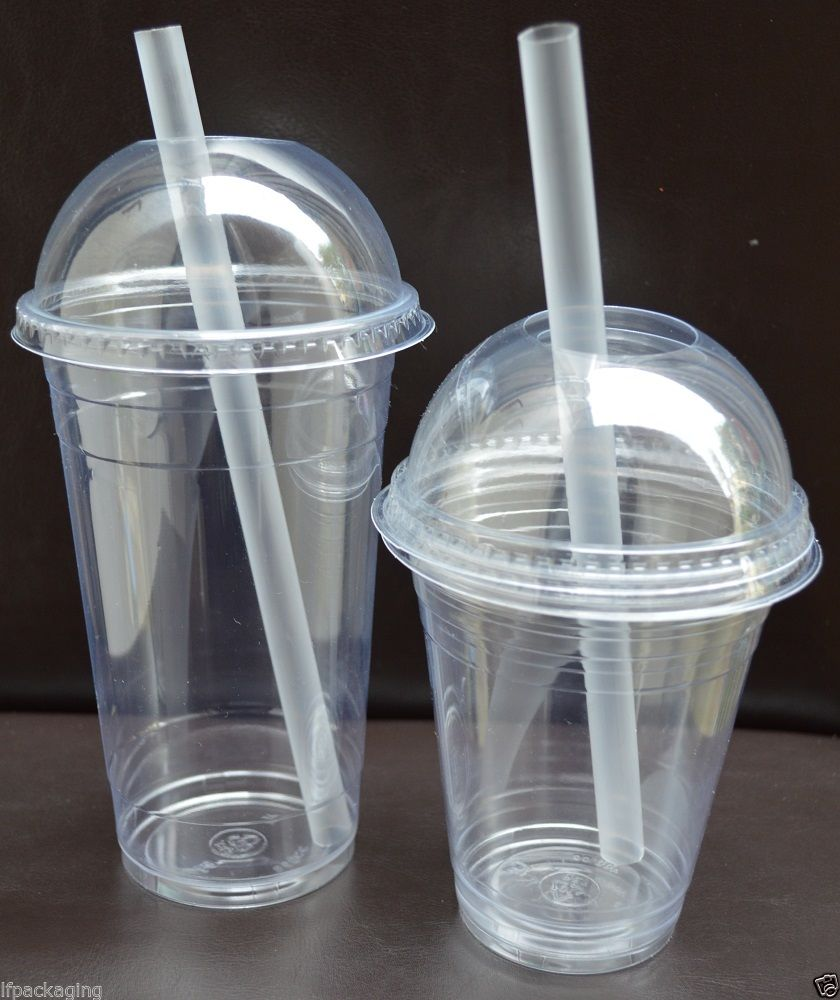plastic_glass: (1, 92, 441, 930), (365, 298, 840, 992)
